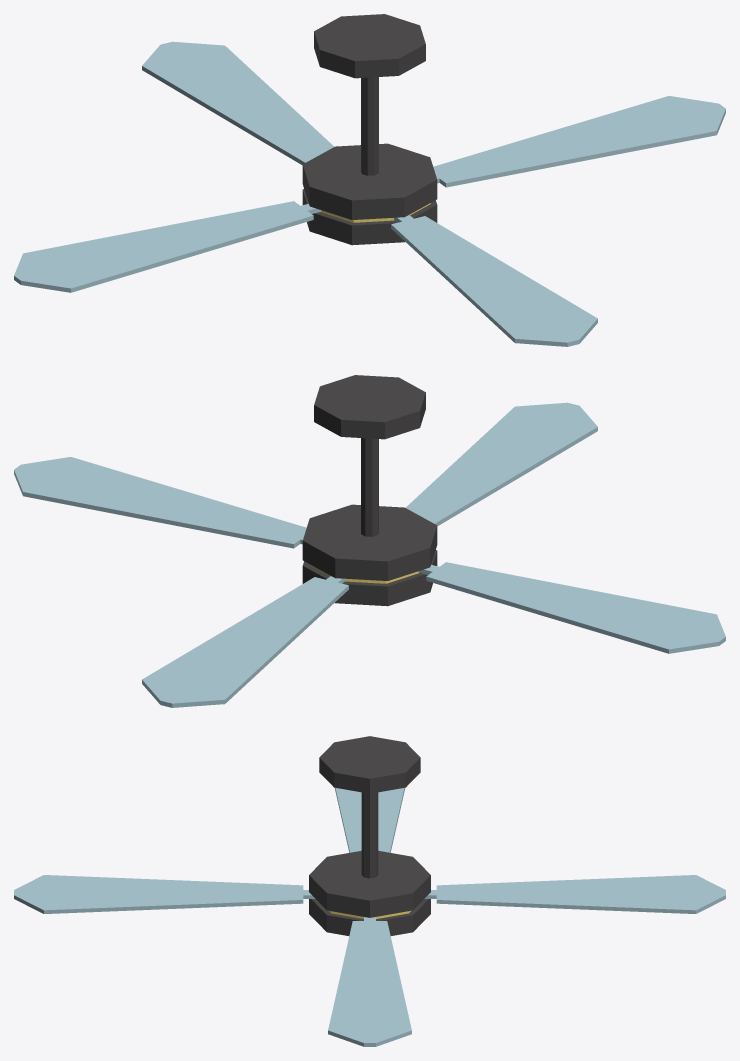
Rendered from Fan.fbx.
The picture shows the model from 3 angles, top to bottom: view 1: azimuth 30°, elevation 25°; view 2: azimuth 150°, elevation 25°; view 3: azimuth 270°, elevation 25°; orthographic projection. The views are drawn at different scales.
Parts seen in each view (by area): view 1: Fan; view 2: Fan; view 3: Fan.
Part boxes in pixels (box(x1,y1,x2,y2)): Fan: box(14, 14, 725, 346); Fan: box(14, 375, 725, 707); Fan: box(14, 736, 725, 1046).
Bounding box in the file's own units: 32509 × 7893 × 32509.
